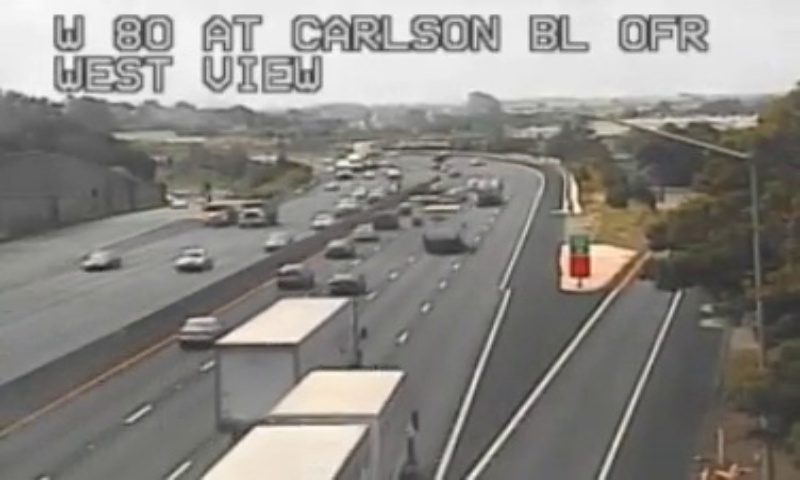car: (178, 316, 223, 345), (327, 274, 365, 297), (276, 265, 312, 288), (323, 240, 353, 258)
small-truck: (423, 203, 461, 250)
truck: (200, 368, 410, 480), (217, 296, 359, 425)
